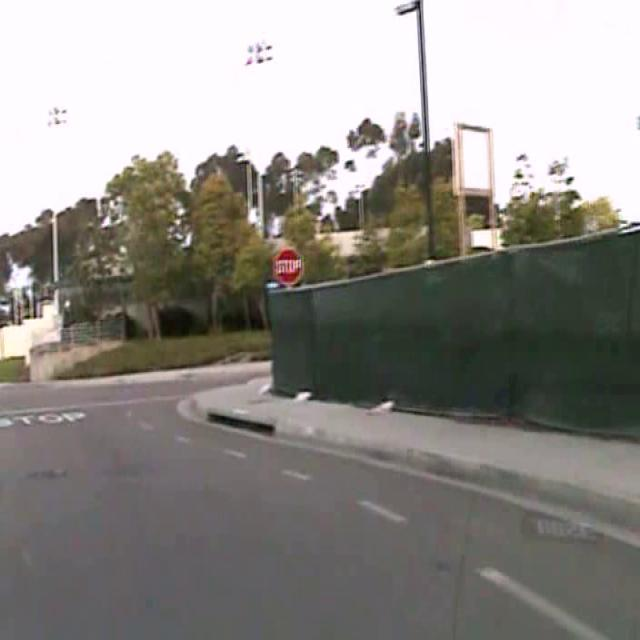stop: (274, 245, 302, 287)
